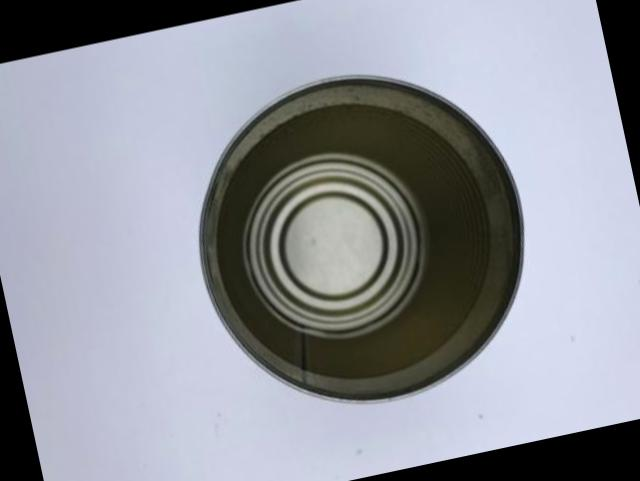metal: (203, 79, 525, 401)
